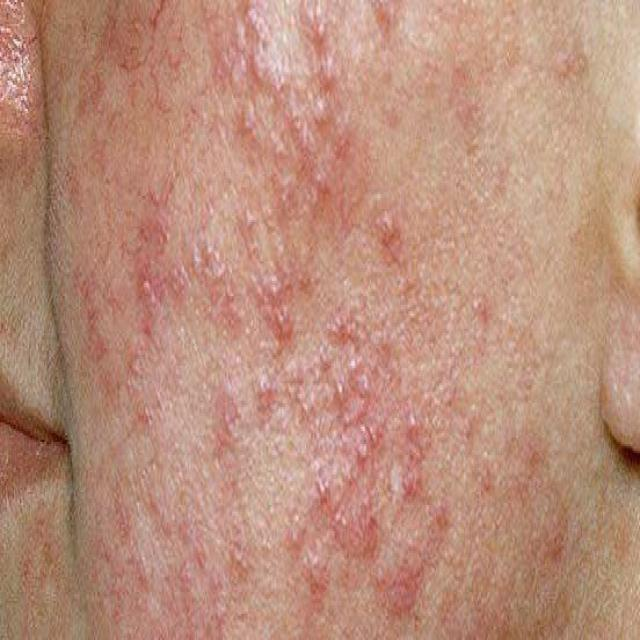Pimples: (256, 266, 304, 346), (190, 224, 229, 294), (385, 455, 408, 512), (205, 354, 226, 414), (403, 396, 428, 444), (350, 422, 376, 466), (288, 498, 306, 560), (141, 174, 166, 218), (352, 348, 374, 396), (238, 85, 256, 137), (474, 281, 488, 344), (376, 207, 396, 250), (255, 368, 275, 411), (136, 268, 156, 310), (306, 2, 328, 39), (312, 450, 329, 494), (308, 90, 328, 126), (318, 52, 338, 85), (332, 370, 344, 403)
